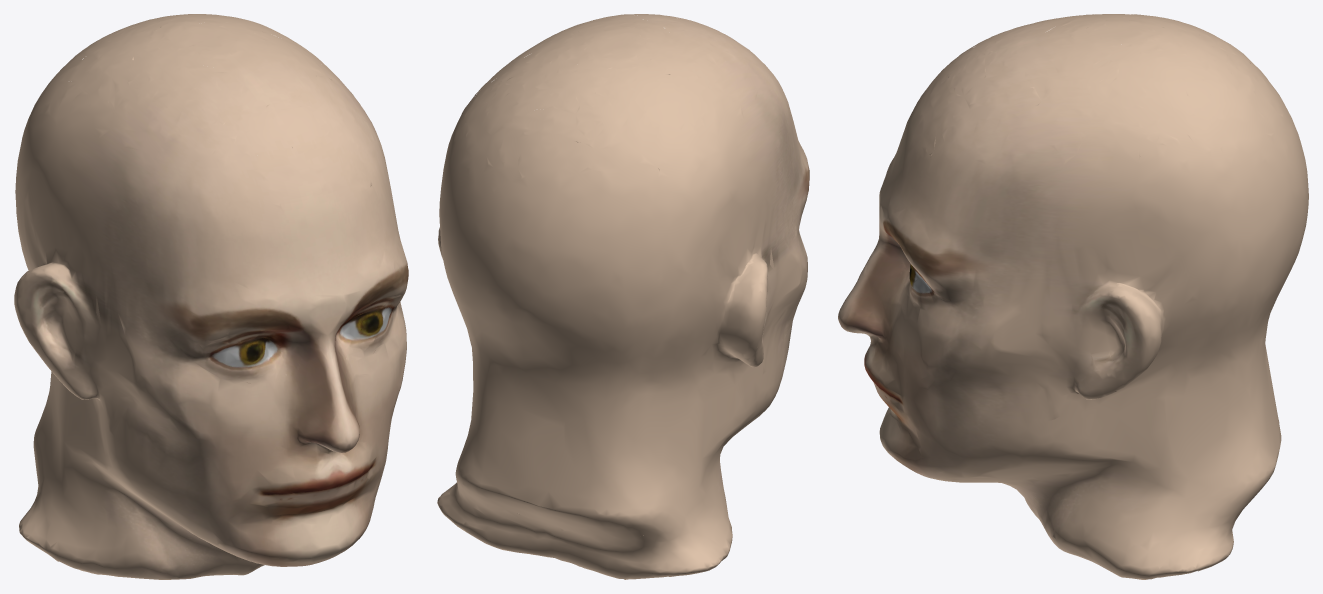
The model's file is head_m.glb.
The picture shows the model from 3 angles, left to right: view 1: azimuth 30°, elevation 25°; view 2: azimuth 150°, elevation 25°; view 3: azimuth 270°, elevation 25°; orthographic projection. The views are drawn at different scales.
Visible parts, largest first — view 1: head; view 2: head; view 3: head.
Part boxes in pixels (x1,y1,x2,y2): head: [14, 14, 408, 579]; head: [437, 14, 809, 579]; head: [838, 14, 1308, 579].
Bounding box in the file's own units: 0.1002 × 0.1424 × 0.1241.
1 material, 1 textured.
